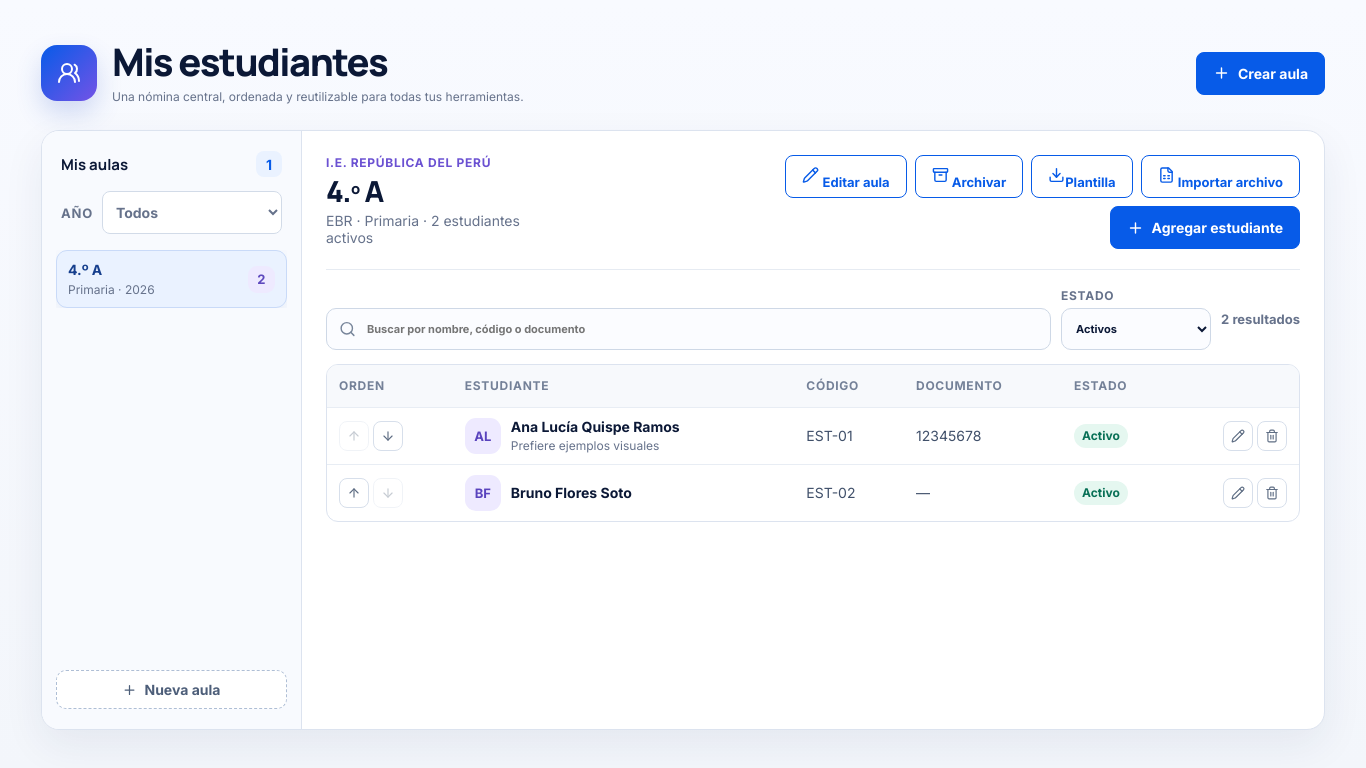
Test: RosterPage › adds a student manually and keeps the API payload free of sensitive extras
Expected: the text "Ana Lucía Quispe Ramos" is shown, [511,418,680,435]
Click the button "Agregar estudiante".
click(1205, 228)  # box [1110,206,1300,249]
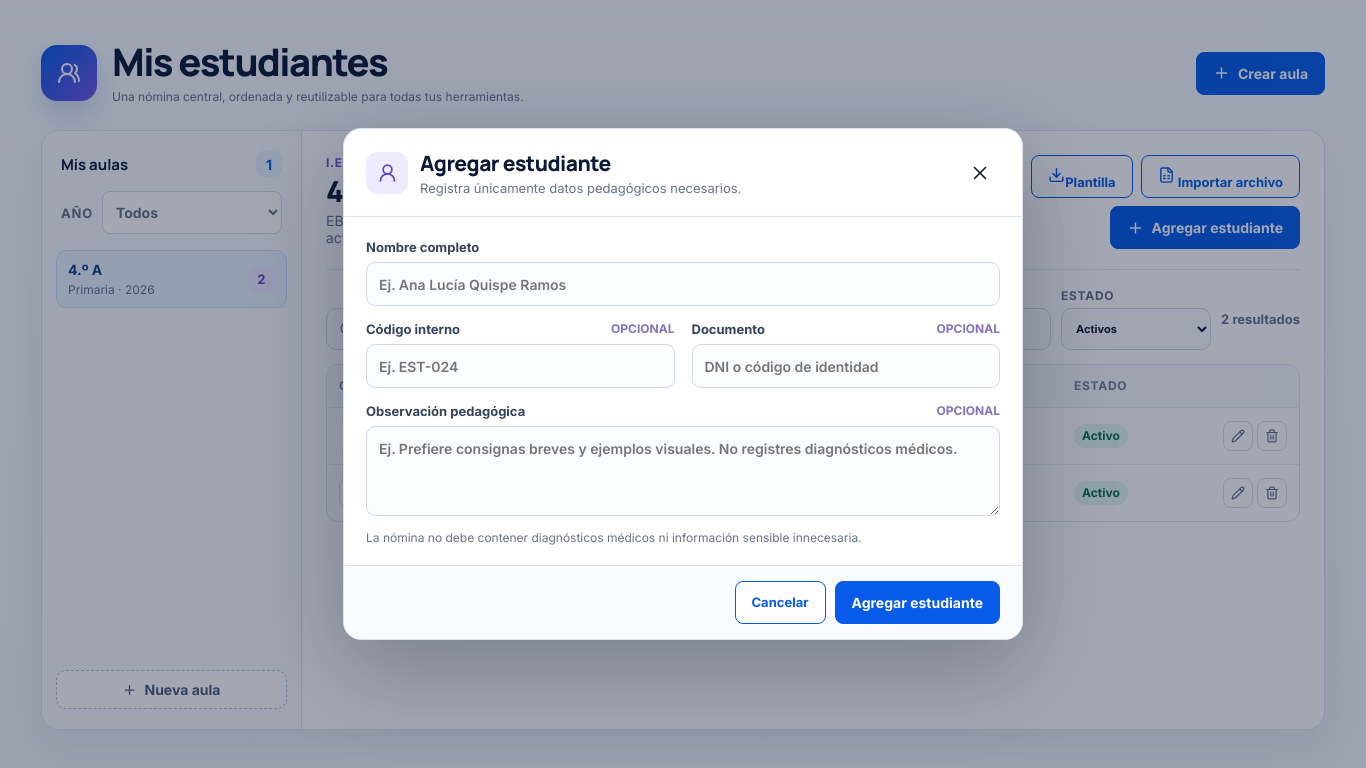
Type "Carla Mendoza Paz" into the field labelled "Nombre completo".
click(683, 284); type("Carla Mendoza Paz")  # box [366,262,1000,306]
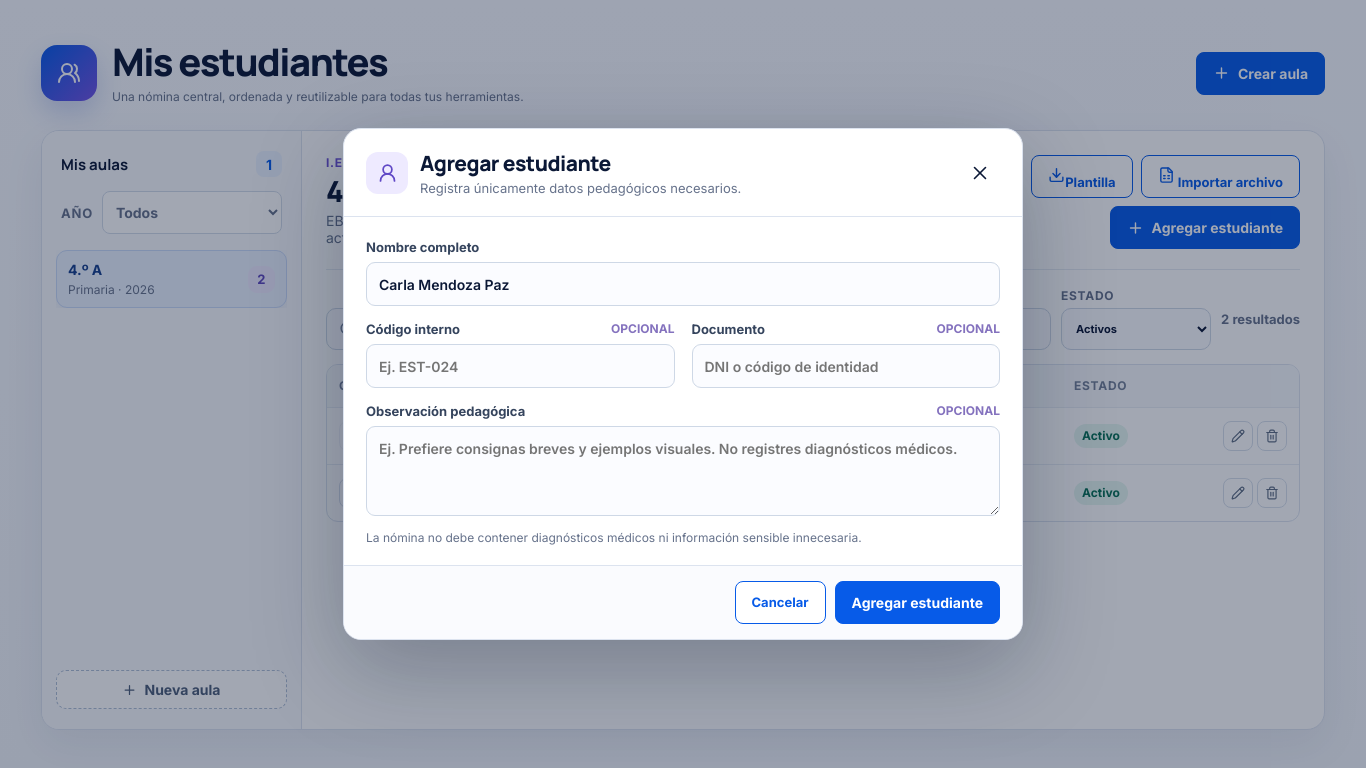
Click the button "Agregar estudiante".
click(917, 602)  # box [834,580,1000,624]
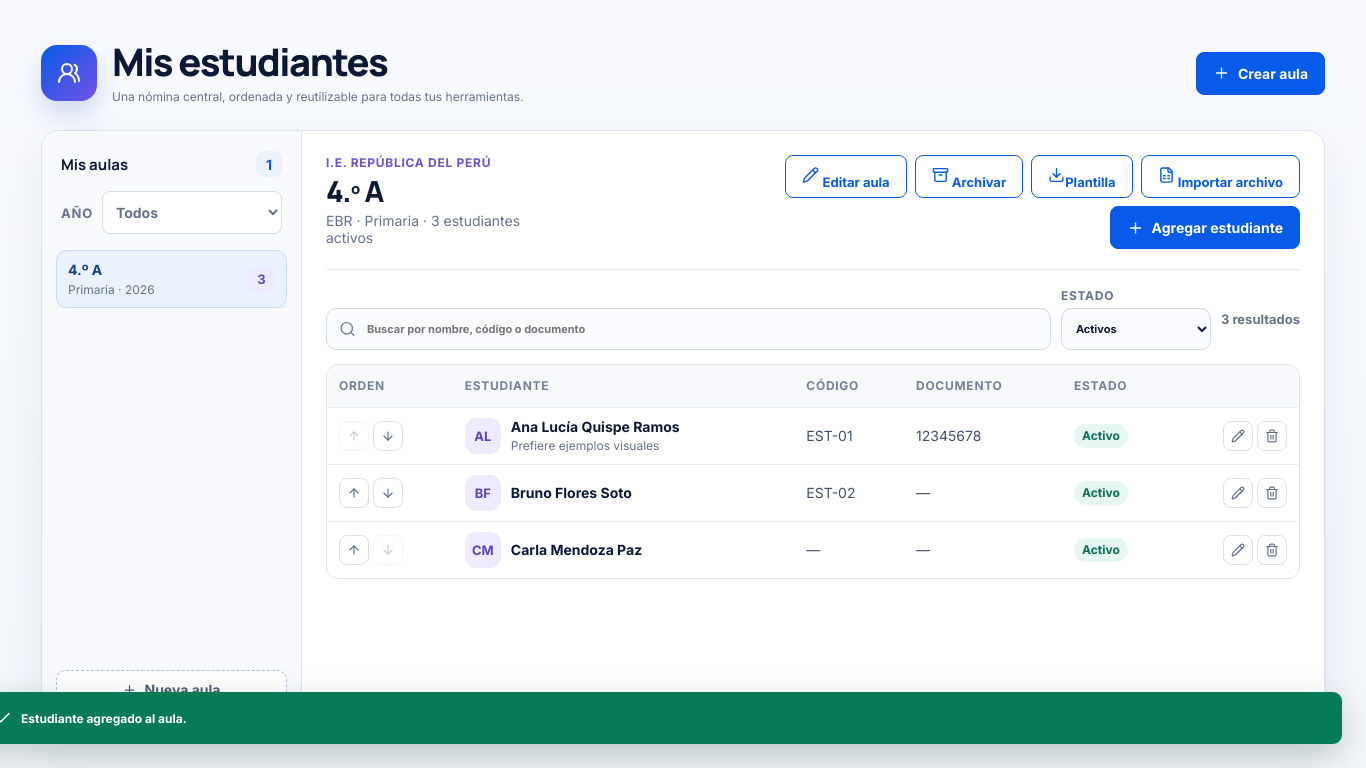
Result: the text "Carla Mendoza Paz" is shown at [511,541,642,558]
